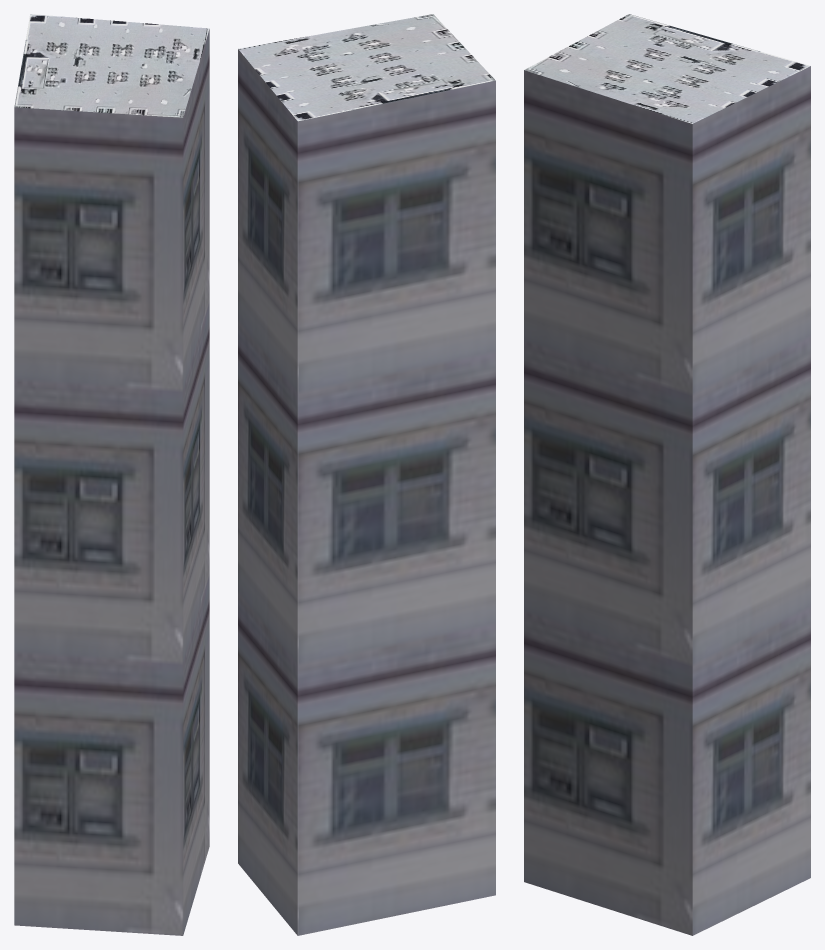
The model's file is ResTex__2978.fbx.
The picture shows the model from 3 angles, left to right: view 1: azimuth 30°, elevation 25°; view 2: azimuth 150°, elevation 25°; view 3: azimuth 270°, elevation 25°; orthographic projection.
Visible parts, largest first — view 1: CityEngineMaterial_1_m, CityEngineMaterial_4_m; view 2: CityEngineMaterial_1_m, CityEngineMaterial_4_m; view 3: CityEngineMaterial_1_m, CityEngineMaterial_4_m.
Part boxes in pixels (box(x1,y1,x2,y2)): CityEngineMaterial_1_m: box(14, 29, 209, 935); CityEngineMaterial_4_m: box(14, 14, 209, 117); CityEngineMaterial_1_m: box(238, 49, 495, 935); CityEngineMaterial_4_m: box(238, 14, 495, 121); CityEngineMaterial_1_m: box(524, 66, 810, 935); CityEngineMaterial_4_m: box(524, 14, 810, 123).
Bounding box in the file's own units: 2.62 × 9 × 2.88.
2 materials, 2 textured.
